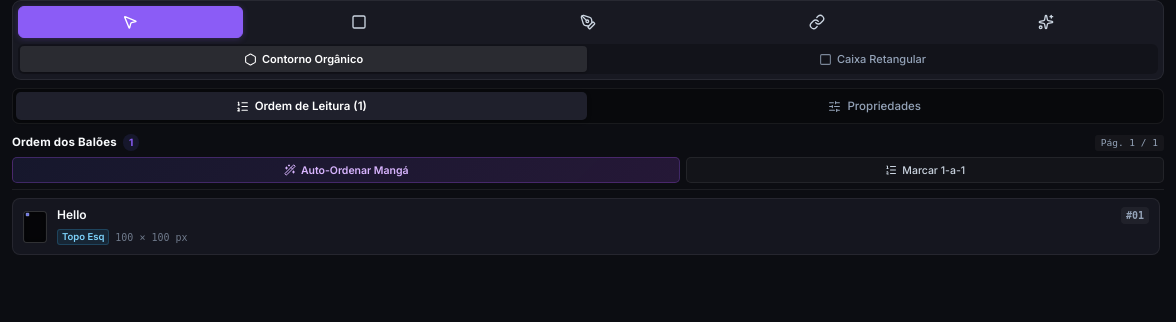
Test: SeamlessLayoutInspector component › renders idle placeholder when no bubble is selected in properties tab
What coordinates should you click on to do the following:
click the tab "Propriedades"
I would click on:
 (875, 106)
Its box is [590,92,1160,120].
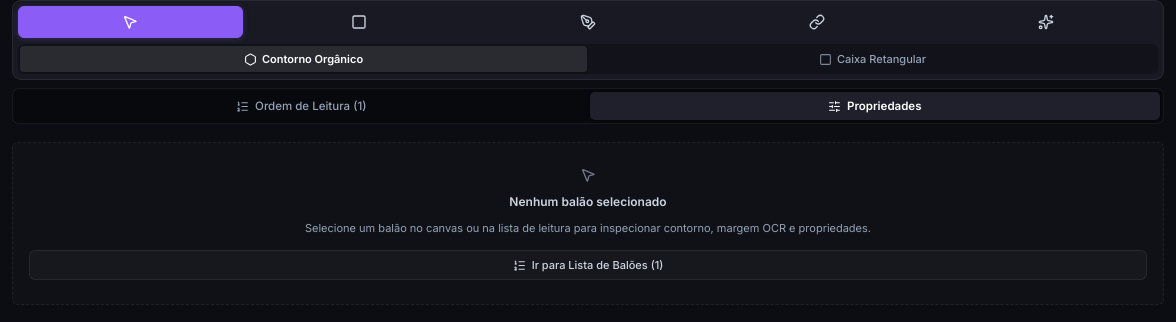
Check: the text "Nenhum balão selecionado" is shown, box [509,193,667,211]
